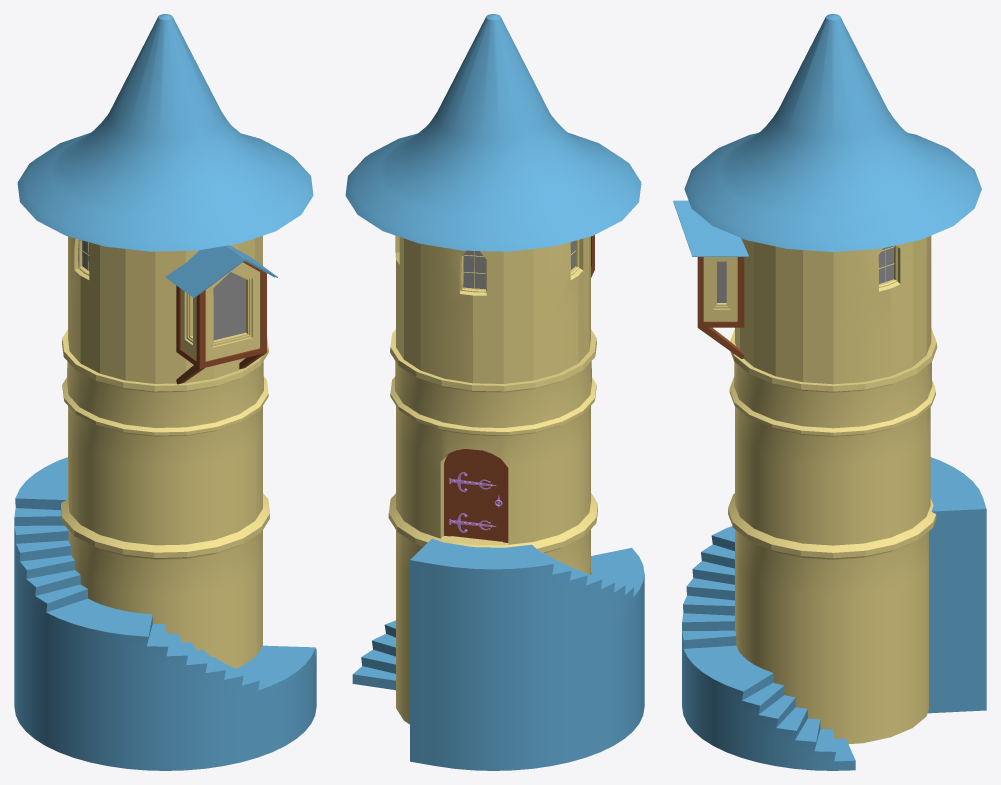
3 renders of one model, left to right at view 1: azimuth 30°, elevation 25°; view 2: azimuth 150°, elevation 25°; view 3: azimuth 270°, elevation 25°, orthographic.
Parts seen in each view (by area): view 1: Turret_Stone_Stacked, Turret_Stone_Blocks, Turret_RoofTiles, Turret_PlasterYellow, Turret_Wood_Beams, Turret_Glass; view 2: Turret_Stone_Stacked, Turret_Stone_Blocks, Turret_RoofTiles, Turret_WoodDark, Turret_Glass, Turret_Metal_Pitted; view 3: Turret_Stone_Stacked, Turret_RoofTiles, Turret_Stone_Blocks, Turret_PlasterYellow, Turret_Wood_Beams, Turret_Glass.
Part boxes in pixels (bbox=[...]): Turret_Stone_Stacked: bbox=[61, 236, 269, 668]; Turret_Stone_Blocks: bbox=[14, 457, 316, 770]; Turret_RoofTiles: bbox=[17, 14, 313, 298]; Turret_PlasterYellow: bbox=[181, 262, 260, 361]; Turret_Wood_Beams: bbox=[176, 261, 266, 384]; Turret_Glass: bbox=[82, 240, 245, 340]; Turret_Stone_Stacked: bbox=[388, 235, 597, 724]; Turret_Stone_Blocks: bbox=[352, 538, 644, 770]; Turret_RoofTiles: bbox=[345, 14, 641, 251]; Turret_WoodDark: bbox=[444, 449, 508, 542]; Turret_Glass: bbox=[463, 240, 575, 289]; Turret_Metal_Pitted: bbox=[449, 472, 502, 532]; Turret_Stone_Stacked: bbox=[728, 236, 937, 744]; Turret_RoofTiles: bbox=[673, 14, 981, 256]; Turret_Stone_Blocks: bbox=[682, 457, 986, 770]; Turret_PlasterYellow: bbox=[703, 257, 737, 321]; Turret_Wood_Beams: bbox=[697, 257, 744, 358]; Turret_Glass: bbox=[717, 246, 893, 302].
Bounding box in the file's own units: 5.07 × 12.8 × 5.25.
